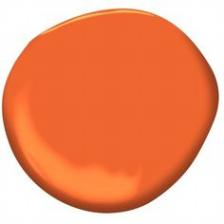orange: (3, 9, 219, 213)
